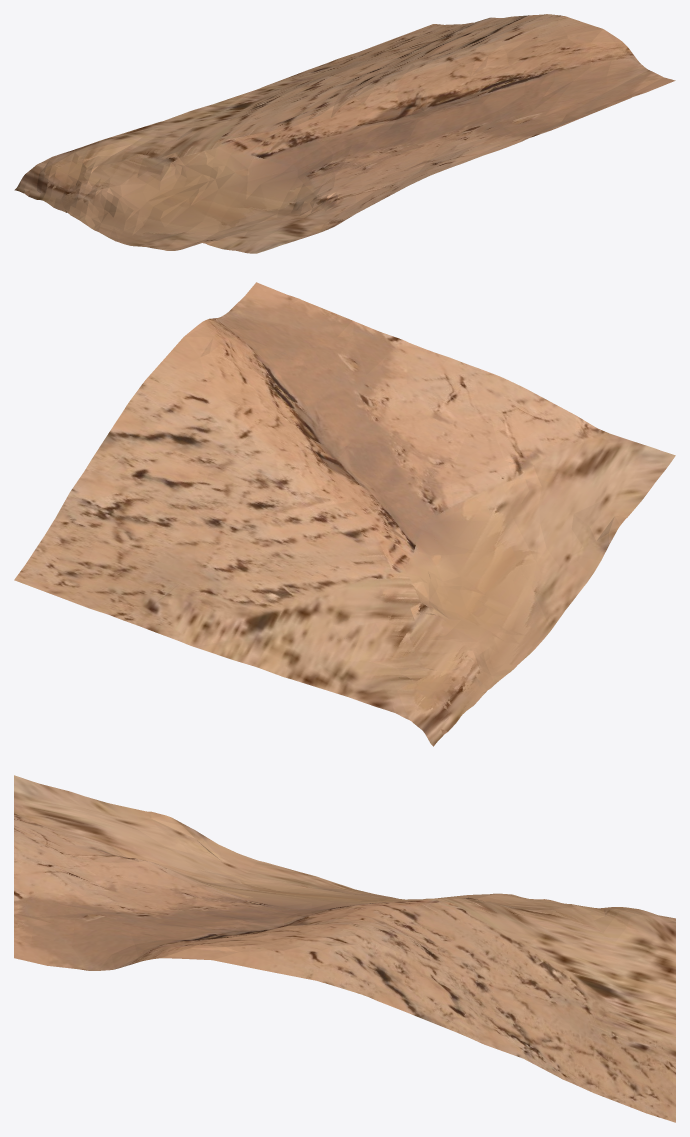
The picture shows the model from 3 angles, top to bottom: view 1: azimuth 30°, elevation 25°; view 2: azimuth 150°, elevation 25°; view 3: azimuth 270°, elevation 25°; orthographic projection. The views are drawn at different scales.
Size of the model in its own units: 1.04 by 0.4394 by 1.04.
3 materials, 3 textured.
